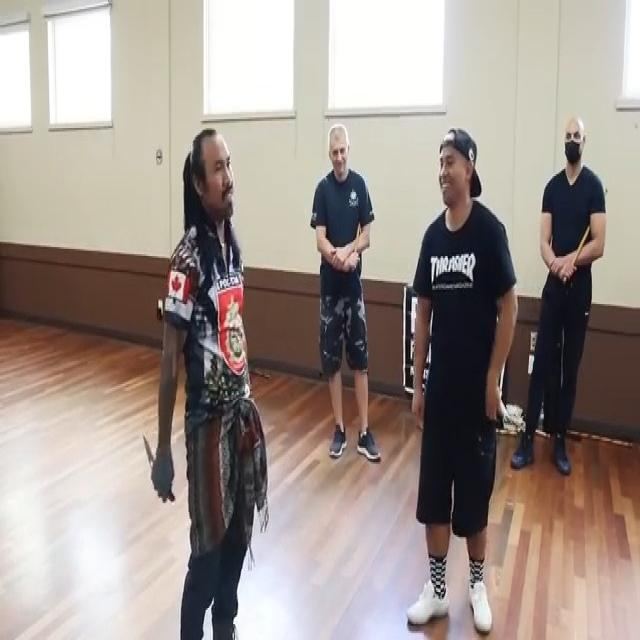Sharp-Object: (143, 428, 175, 505)
